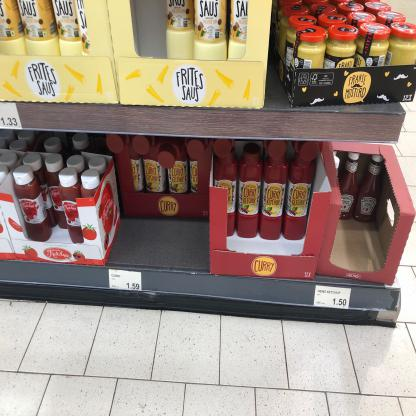prtg: (315, 286, 352, 310), (110, 270, 143, 292)
